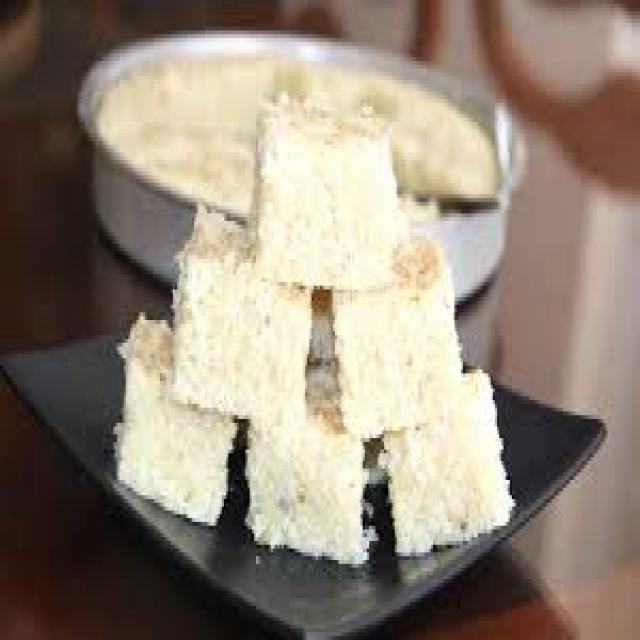DHOKLA: (167, 211, 304, 427), (248, 104, 393, 288), (333, 219, 458, 428), (118, 317, 231, 527), (381, 373, 512, 551), (247, 361, 362, 560)
